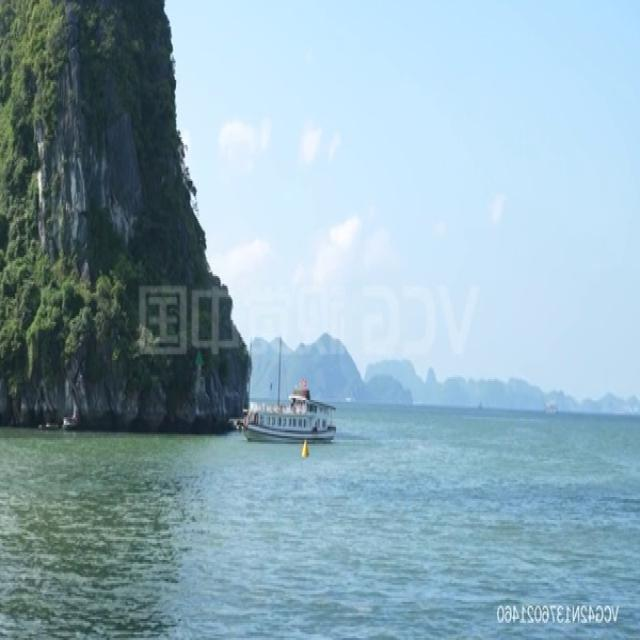passenger ship: (236, 376, 337, 447)
